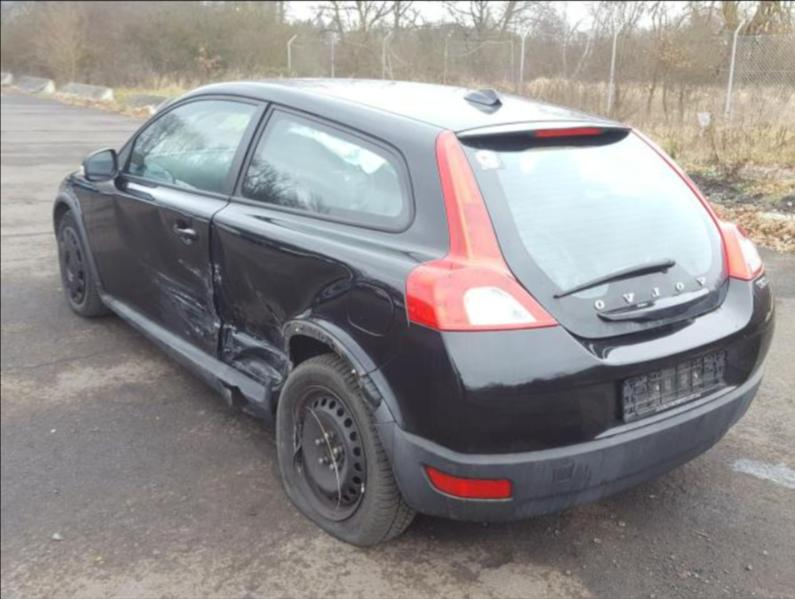Broken part: (108, 299, 275, 426), (207, 221, 313, 391), (284, 382, 369, 525)
Dent: (208, 220, 291, 393), (143, 259, 220, 358), (134, 206, 174, 254)
Missing part: (281, 318, 397, 425)
Paint chip: (233, 328, 270, 350), (291, 308, 311, 321), (223, 322, 238, 330)
Scratch: (143, 264, 212, 303), (157, 281, 213, 313), (177, 309, 213, 342), (179, 259, 212, 292), (255, 290, 285, 318), (231, 359, 266, 383), (168, 293, 205, 314), (253, 355, 279, 384), (241, 302, 262, 321), (187, 316, 210, 329), (208, 260, 221, 282), (242, 393, 265, 405), (236, 311, 256, 324), (270, 311, 283, 325), (246, 327, 260, 340), (270, 348, 283, 359), (244, 272, 252, 289), (274, 324, 283, 336), (232, 299, 240, 312), (350, 368, 357, 374), (214, 322, 220, 326), (185, 330, 190, 334)
